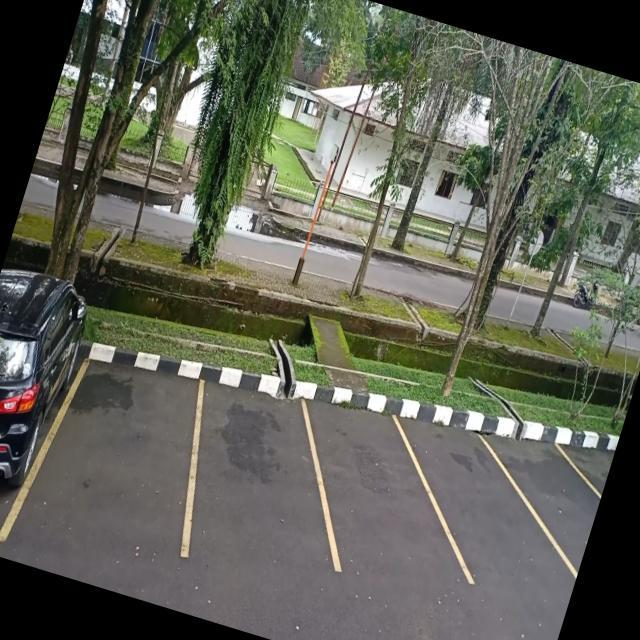empty: (166, 358, 347, 590), (29, 336, 220, 550), (295, 389, 463, 597), (411, 421, 552, 604)
occupied: (0, 304, 86, 542)
